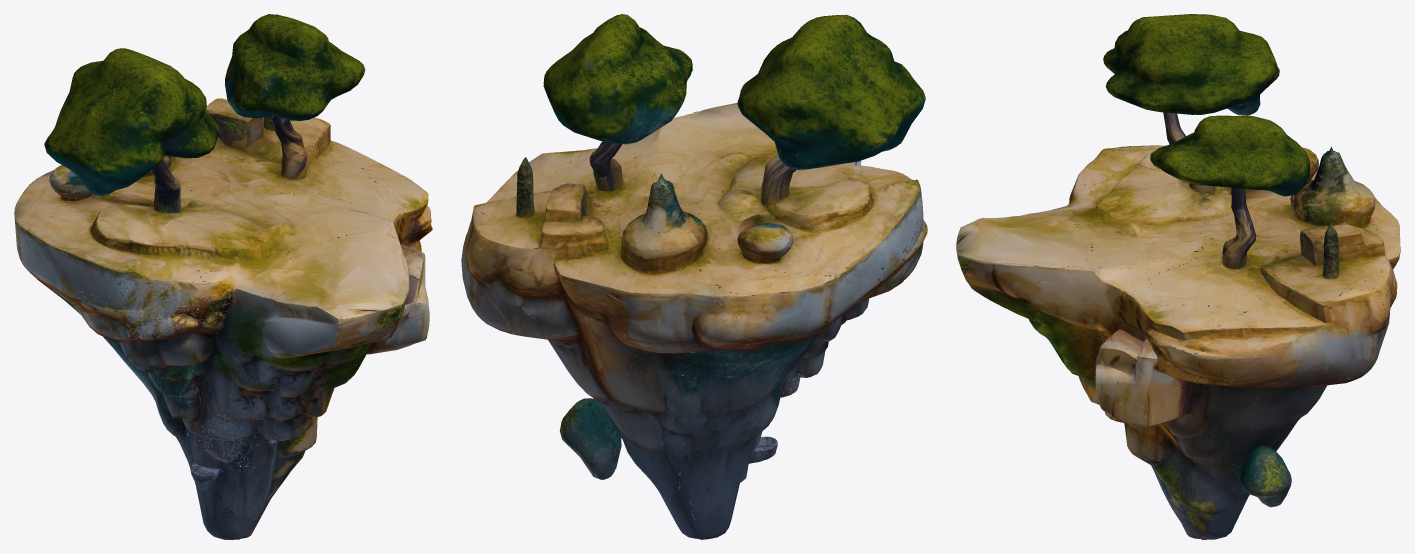
The model's file is fab_island_1.glb.
The picture shows the model from 3 angles, left to right: view 1: azimuth 30°, elevation 25°; view 2: azimuth 150°, elevation 25°; view 3: azimuth 270°, elevation 25°; orthographic projection. The views are drawn at different scales.
Visible parts, largest first — view 1: material; view 2: material; view 3: material.
Boxes of the visible parts, left/top/right/bottom form: material: left=14, top=14, right=432, bottom=539; material: left=461, top=14, right=927, bottom=539; material: left=956, top=14, right=1400, bottom=539.
Size of the model in its own units: 0.8424 by 1.08 by 0.9304.
1 material, 1 textured.
